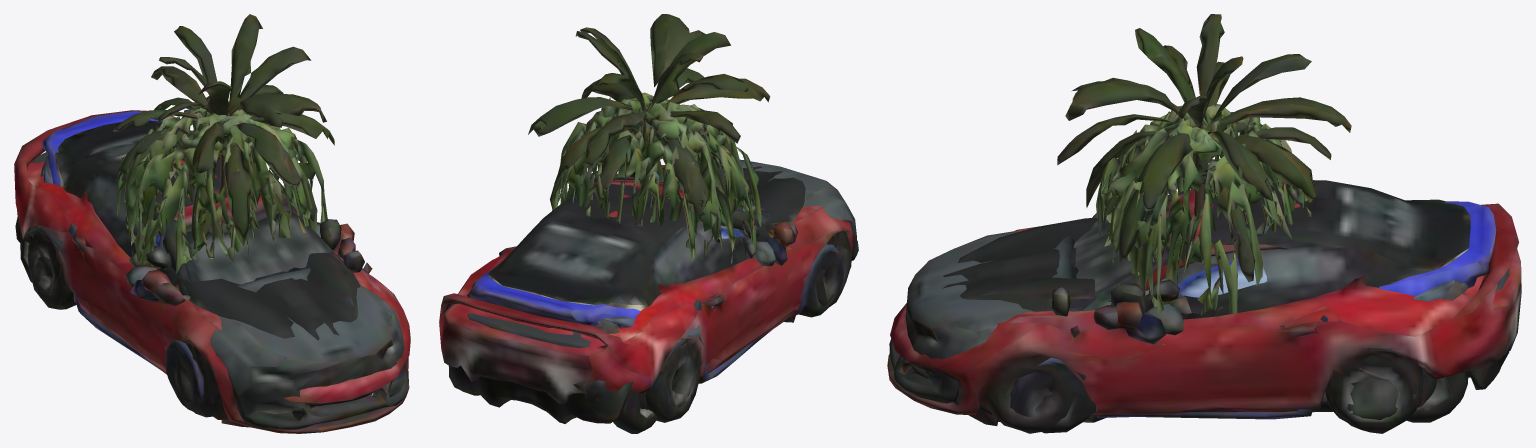
The model's file is city-vehicles.glb.
3 renders of one model, left to right at view 1: azimuth 30°, elevation 25°; view 2: azimuth 150°, elevation 25°; view 3: azimuth 270°, elevation 25°, orthographic. The views are drawn at different scales.
Visible parts, largest first — view 1: g2, g12, g17, g9, g19, g11, g5, g16, g10; view 2: g2, g19, g9, g17, g12, g5, g16, g11, g10; view 3: g2, g19, g9, g17, g12, g5, g11, g16, g10.
Part boxes in pixels (bbox=[...]): g2: bbox=[14, 110, 410, 433]; g12: bbox=[15, 152, 408, 429]; g17: bbox=[117, 108, 327, 273]; g9: bbox=[113, 14, 334, 246]; g19: bbox=[55, 120, 360, 340]; g11: bbox=[40, 156, 355, 427]; g5: bbox=[28, 159, 203, 411]; g16: bbox=[41, 111, 162, 269]; g10: bbox=[126, 222, 320, 287]; g2: bbox=[439, 165, 852, 419]; g19: bbox=[488, 162, 805, 310]; g9: bbox=[528, 14, 770, 215]; g17: bbox=[552, 92, 761, 264]; g12: bbox=[448, 159, 858, 433]; g5: bbox=[472, 236, 843, 422]; g16: bbox=[470, 228, 756, 327]; g11: bbox=[467, 177, 797, 409]; g10: bbox=[754, 241, 775, 266]; g2: bbox=[887, 189, 1521, 433]; g19: bbox=[942, 180, 1470, 319]; g9: bbox=[1057, 14, 1351, 282]; g17: bbox=[1096, 104, 1311, 315]; g12: bbox=[889, 191, 1509, 422]; g5: bbox=[1010, 280, 1454, 433]; g11: bbox=[968, 210, 1468, 425]; g16: bbox=[1162, 201, 1496, 315]; g10: bbox=[1147, 304, 1184, 335].
Size of the model in its own units: 0.1304 by 0.1781 by 0.2913.
Materials: 1 (1 with a texture image).
